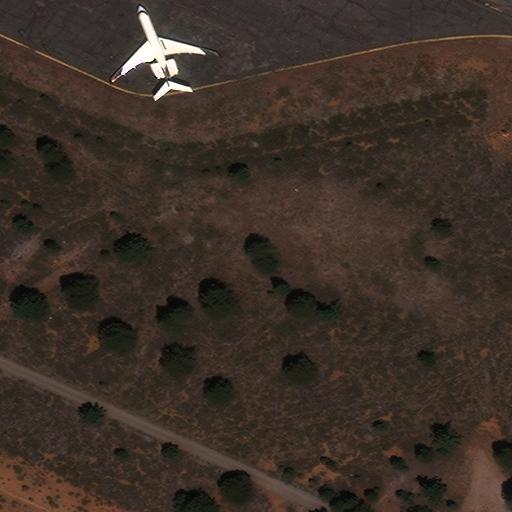Medium Civil Transport: (110, 4, 216, 89)
